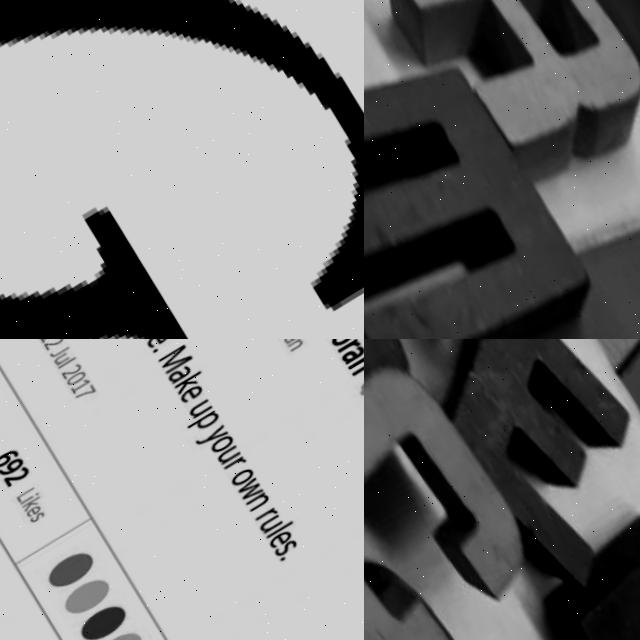0: (62, 370, 85, 389)
1: (67, 378, 91, 397), (35, 339, 59, 345)
2: (0, 464, 30, 489), (58, 362, 82, 381), (40, 339, 64, 351)
6: (0, 446, 19, 469)
7: (72, 384, 95, 403)
9: (0, 455, 25, 480)
A: (364, 554, 524, 640)
C: (364, 348, 555, 640)
E: (397, 339, 640, 613)
G: (0, 0, 364, 339)
L: (548, 0, 640, 137)
M: (364, 0, 608, 339)
R: (364, 0, 640, 224)
